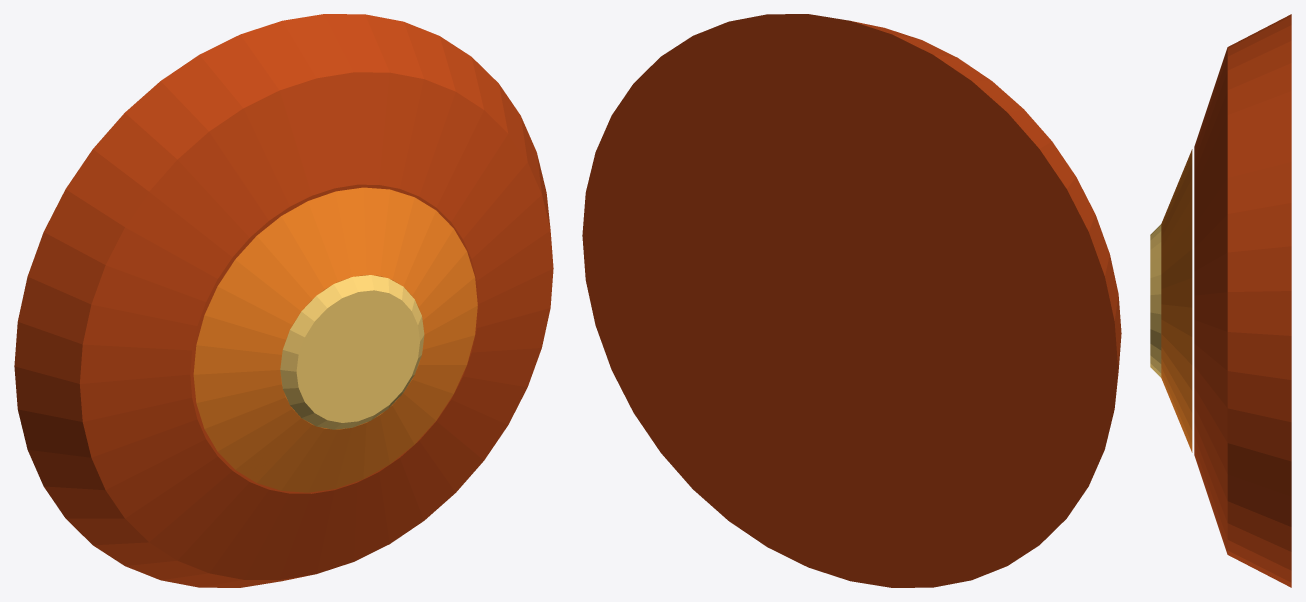
File: TwinShieldCore.obj
The picture shows the model from 3 angles, left to right: view 1: azimuth 30°, elevation 25°; view 2: azimuth 150°, elevation 25°; view 3: azimuth 270°, elevation 25°; orthographic projection. The views are drawn at different scales.
Visible parts, largest first — view 1: TwinShieldCore; view 2: TwinShieldCore; view 3: TwinShieldCore.
Boxes of the visible parts, x1,y1,x2,y2 form: TwinShieldCore: [14, 14, 553, 587]; TwinShieldCore: [582, 14, 1121, 587]; TwinShieldCore: [1150, 14, 1291, 587].
Bounding box in the file's own units: 0.26 × 0.26 × 0.064.
Materials: 1 (1 with a texture image).
